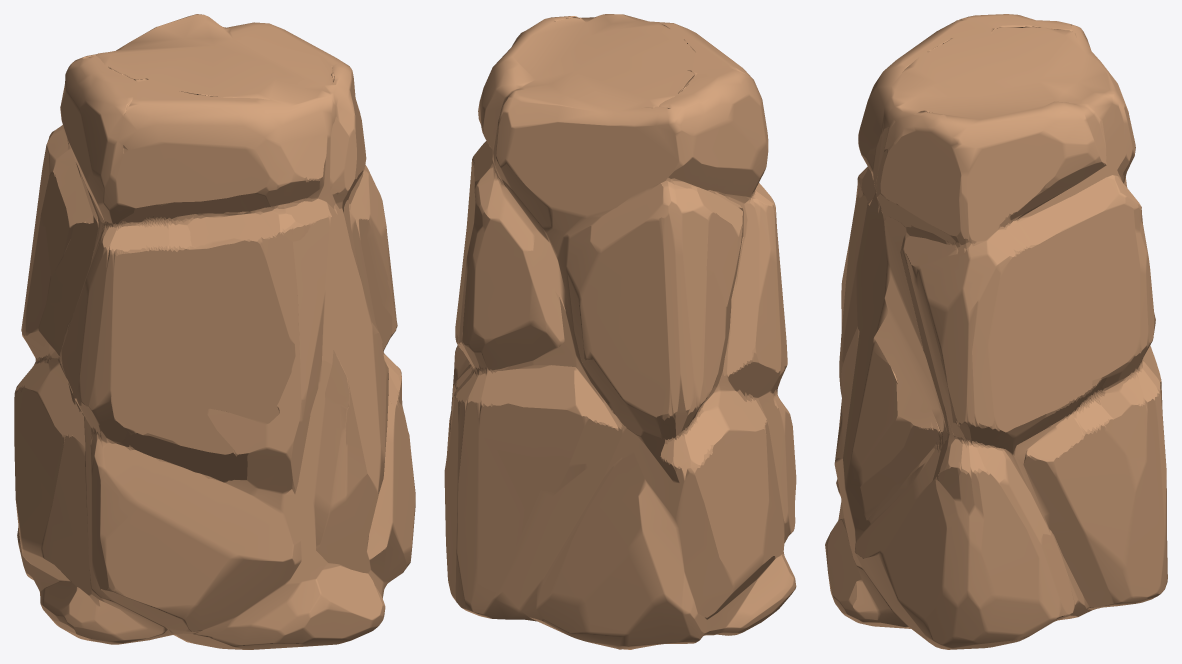
3 renders of one model, left to right at view 1: azimuth 30°, elevation 25°; view 2: azimuth 150°, elevation 25°; view 3: azimuth 270°, elevation 25°, orthographic. The views are drawn at different scales.
Parts seen in each view (by area): view 1: Mesh_21_LOD0; view 2: Mesh_21_LOD0; view 3: Mesh_21_LOD0.
Part boxes in pixels (box(x1,y1,x2,y2)): Mesh_21_LOD0: box(14, 14, 415, 649); Mesh_21_LOD0: box(444, 14, 796, 649); Mesh_21_LOD0: box(825, 14, 1167, 649).
Size of what is drawn, in the model's own units: 1418 by 2135 by 1262.
